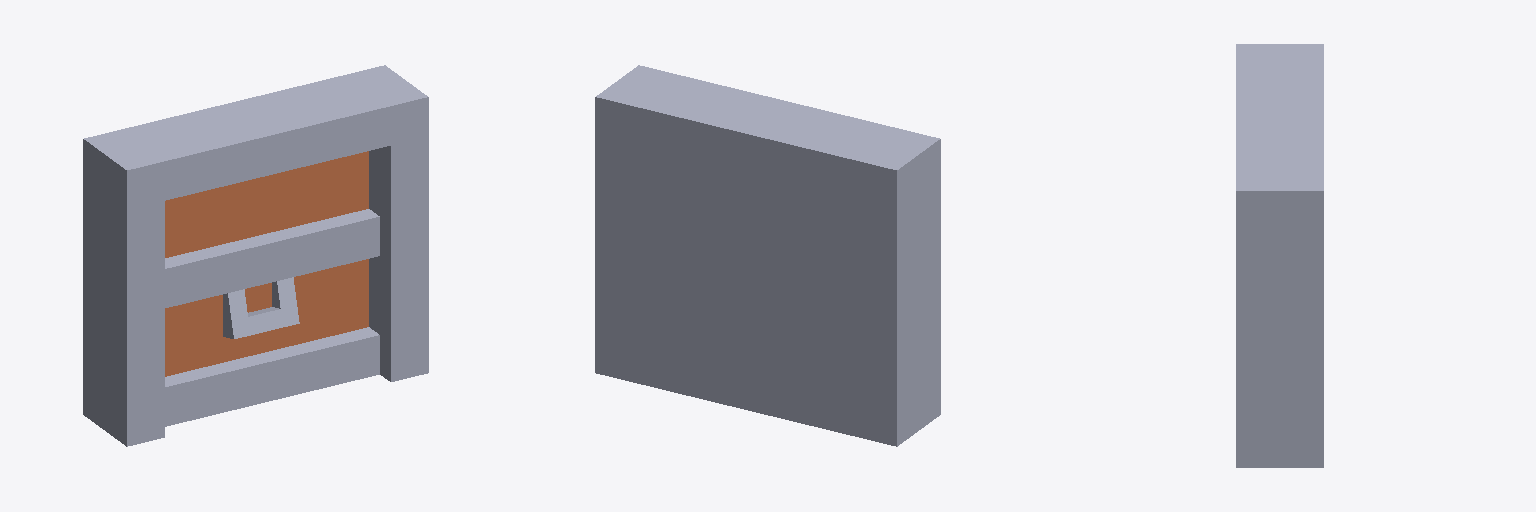
The model's file is door.obj.
3 renders of one model, left to right at view 1: azimuth 30°, elevation 25°; view 2: azimuth 150°, elevation 25°; view 3: azimuth 270°, elevation 25°, orthographic.
Parts seen in each view (by area): view 1: door; view 2: door; view 3: door.
Boxes of the visible parts, x1,y1,x2,y2 form: door: [83, 65, 428, 446]; door: [595, 65, 940, 446]; door: [1236, 44, 1323, 467].
Bounding box in the file's own units: 0.8 × 0.7 × 0.2.